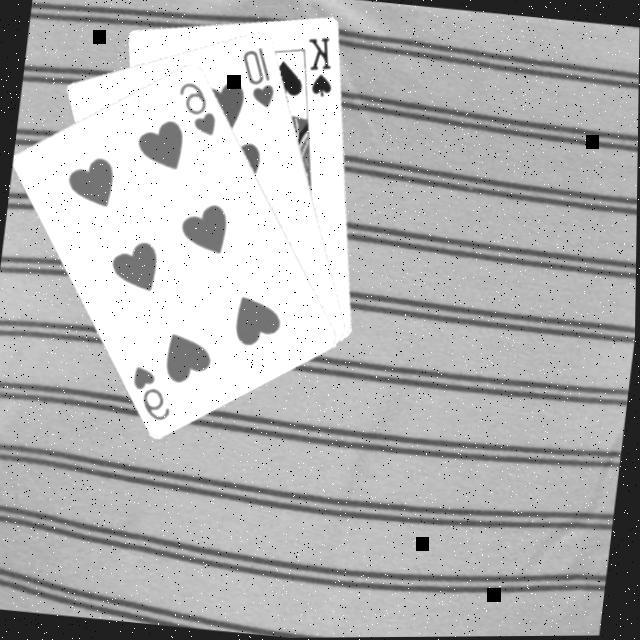10H: (232, 43, 282, 113)
6H: (168, 78, 223, 142), (124, 362, 178, 426)
KS: (296, 33, 340, 102)
